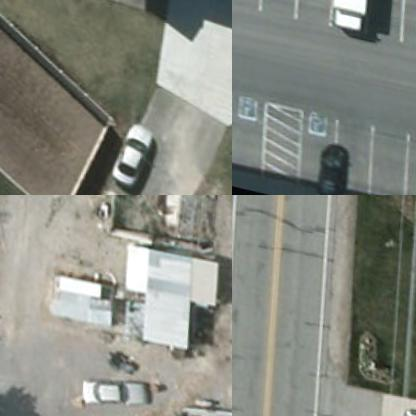car: (70, 363, 157, 415), (106, 115, 156, 194), (311, 137, 347, 194)
truck: (323, 0, 373, 34)
